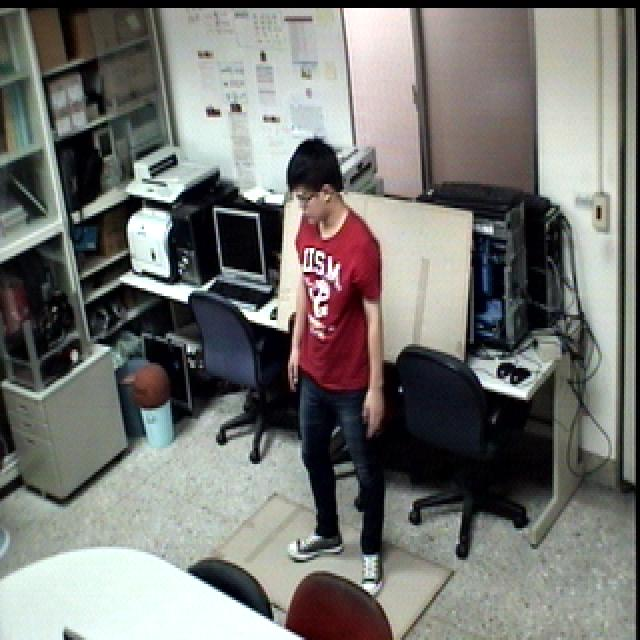stand: (273, 127, 400, 600)
